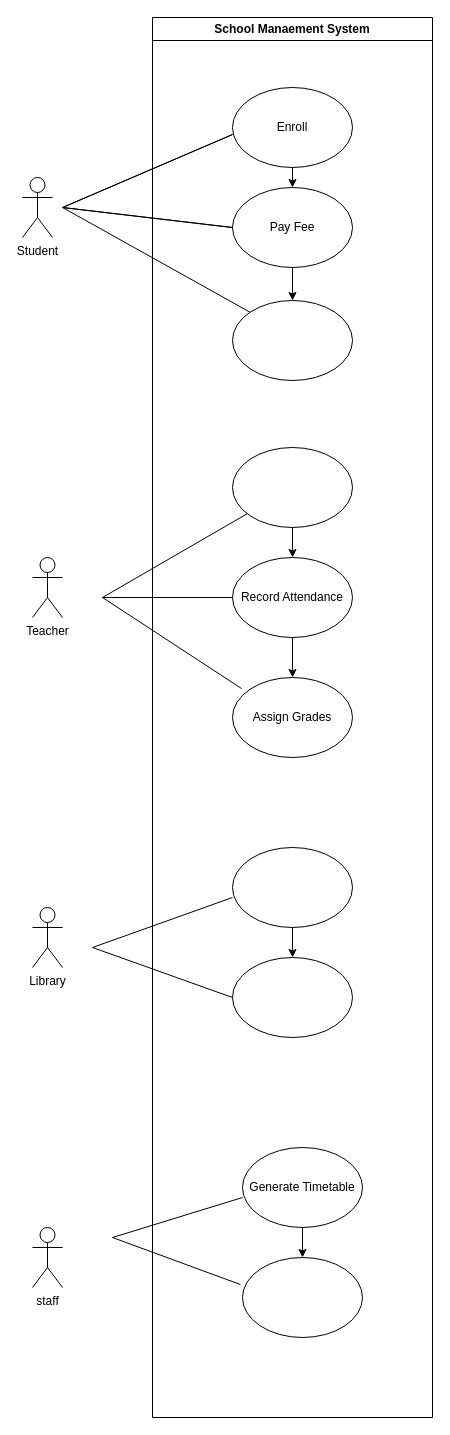
This 450x1435 diagram has some shape labels left out. Here are the shapes that lost their labels. From the top down, the centre of each, then its label:
At point (292, 340): "Take Classes".
At point (292, 487): "Manage course".
At point (292, 887): "Manage Books".
At point (292, 997): "Lend Books".
At point (302, 1297): "Manage Submissions".
